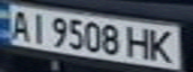0: (81, 20, 103, 54)
5: (63, 17, 84, 52)
8: (100, 21, 124, 56)
9: (45, 14, 69, 48)
A: (6, 7, 33, 42)
H: (124, 24, 154, 60)
I: (24, 10, 51, 44)
K: (145, 26, 181, 63)
